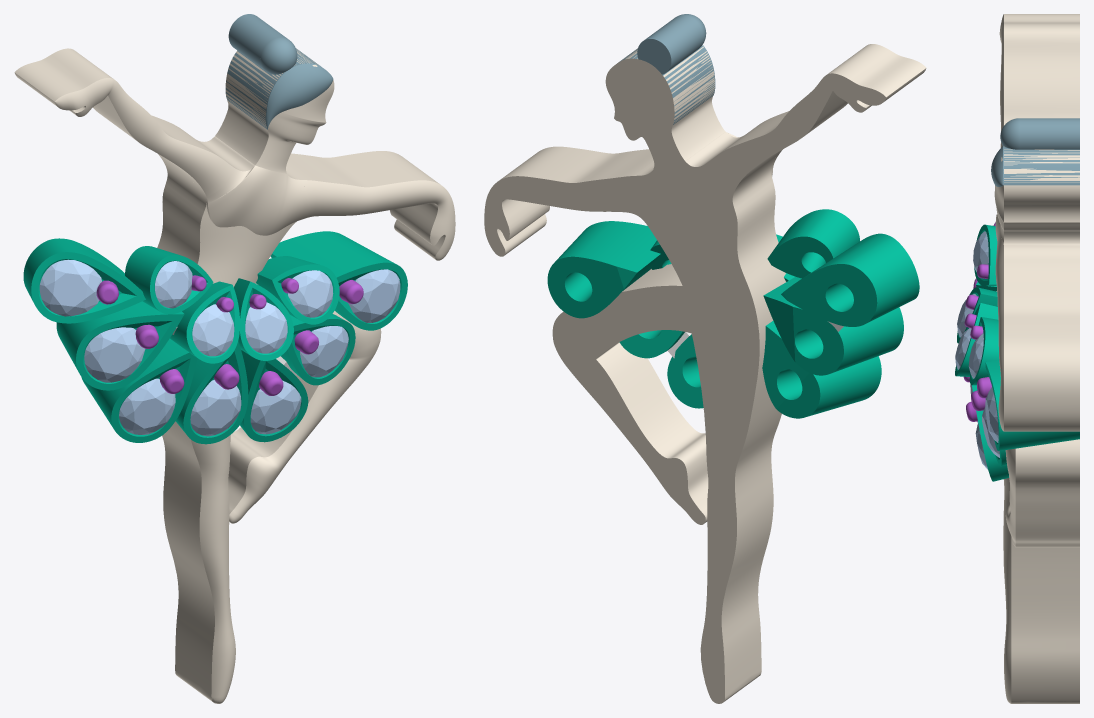
3 renders of one model, left to right at view 1: azimuth 30°, elevation 25°; view 2: azimuth 150°, elevation 25°; view 3: azimuth 270°, elevation 25°, orthographic. The views are drawn at different scales.
Visible parts, largest first — view 1: PG-Grl (4).3dm, Diamond_Round (×11); view 2: PG-Grl (4).3dm; view 3: PG-Grl (4).3dm, Diamond_Round (×6), Prong On Surface (×2).
Boxes of the visible parts, bbox=[...] form: PG-Grl (4).3dm: bbox=[14, 14, 455, 703]; Diamond_Round (×11): bbox=[39, 259, 400, 436]; PG-Grl (4).3dm: bbox=[484, 14, 926, 703]; PG-Grl (4).3dm: bbox=[955, 14, 1079, 703]; Diamond_Round (×6): bbox=[955, 231, 999, 457]; Prong On Surface (×2): bbox=[971, 377, 991, 410].
Bounding box in the file's own units: 2.16 × 3.31 × 0.604.
